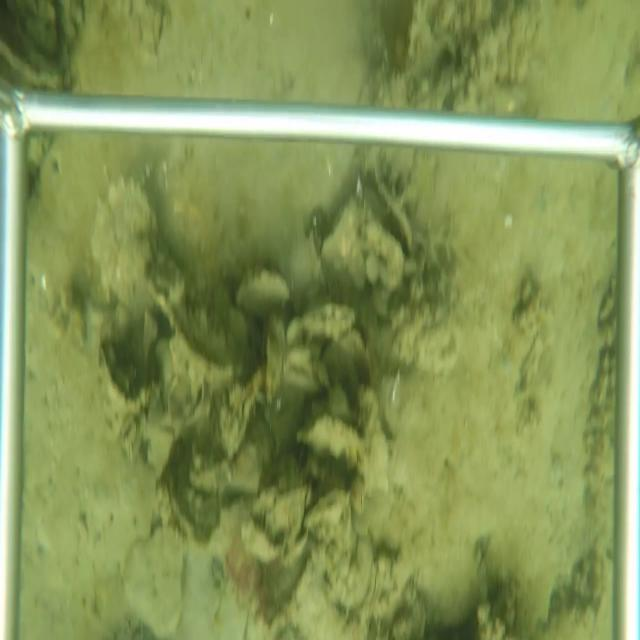Oyster-Closed: (315, 193, 364, 285), (232, 256, 293, 319)
Oyster-Indeterminate: (89, 173, 161, 299), (120, 524, 188, 637)
Oyster-Open: (360, 159, 414, 257)
